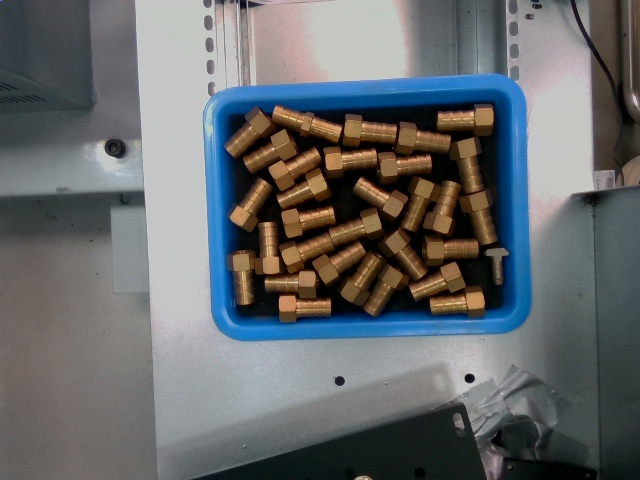omron: (242, 128, 297, 173), (435, 102, 495, 137)
